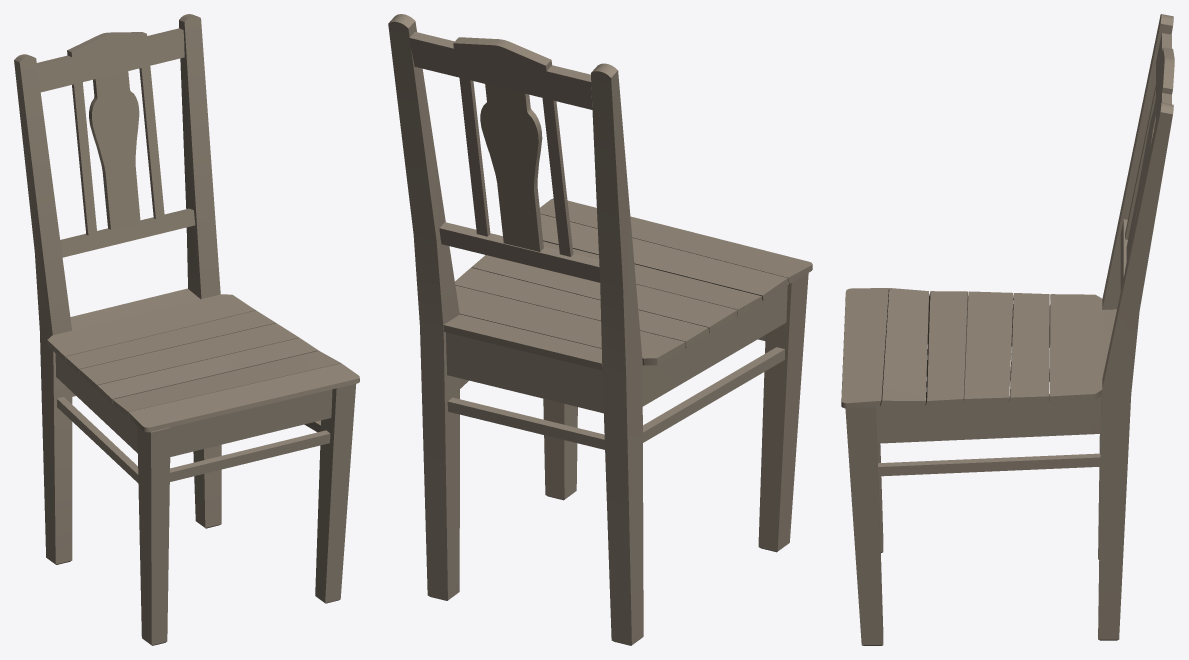
Rendered from wood_chair.glb.
The picture shows the model from 3 angles, left to right: view 1: azimuth 30°, elevation 25°; view 2: azimuth 150°, elevation 25°; view 3: azimuth 270°, elevation 25°; orthographic projection. The views are drawn at different scales.
Parts seen in each view (by area): view 1: wood_chair; view 2: wood_chair; view 3: wood_chair.
Part boxes in pixels (bbox=[...]): wood_chair: bbox=[14, 14, 359, 645]; wood_chair: bbox=[388, 14, 812, 645]; wood_chair: bbox=[841, 14, 1174, 645].
Size of the model in its own units: 0.44 by 0.96 by 0.54.
